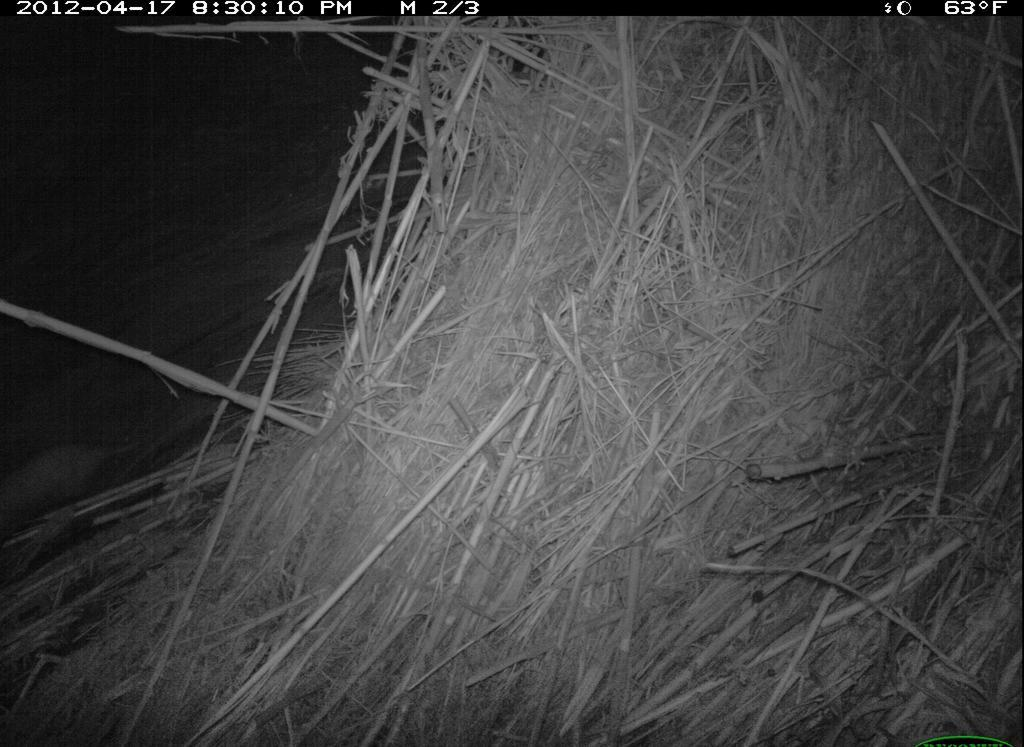opossum: (9, 428, 140, 546)
